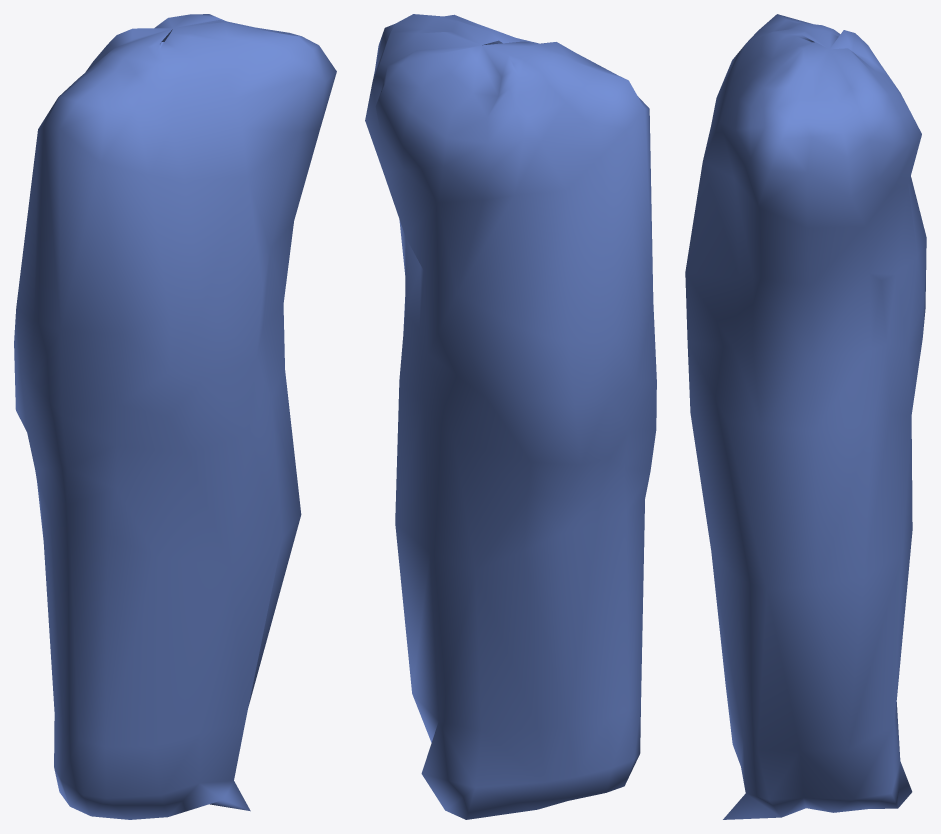
Rendered from UpLeg.R.dae.
The picture shows the model from 3 angles, left to right: view 1: azimuth 30°, elevation 25°; view 2: azimuth 150°, elevation 25°; view 3: azimuth 270°, elevation 25°; orthographic projection. The views are drawn at different scales.
Visible parts, largest first — view 1: UpLeg_R; view 2: UpLeg_R; view 3: UpLeg_R.
Part boxes in pixels (x1,y1,x2,y2): UpLeg_R: (14,14,336,819); UpLeg_R: (365,14,656,819); UpLeg_R: (685,14,926,819).
Bounding box in the file's own units: 0.1749 × 0.1278 × 0.4487.
